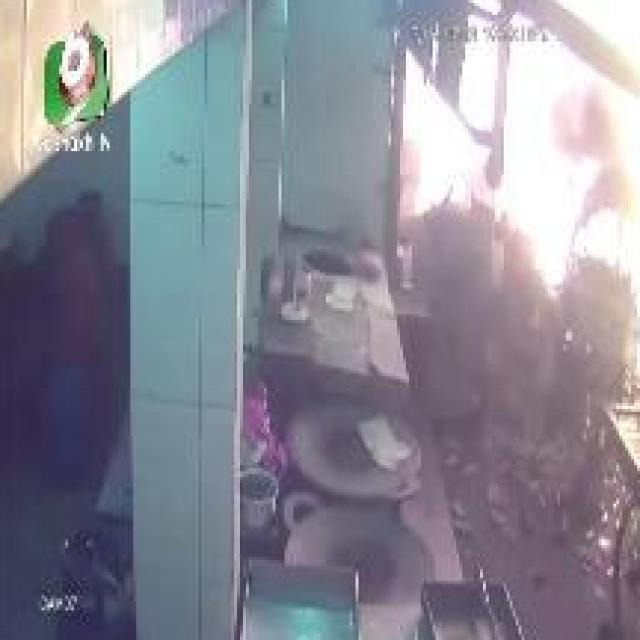smoke: (471, 0, 640, 391), (397, 59, 504, 231)
